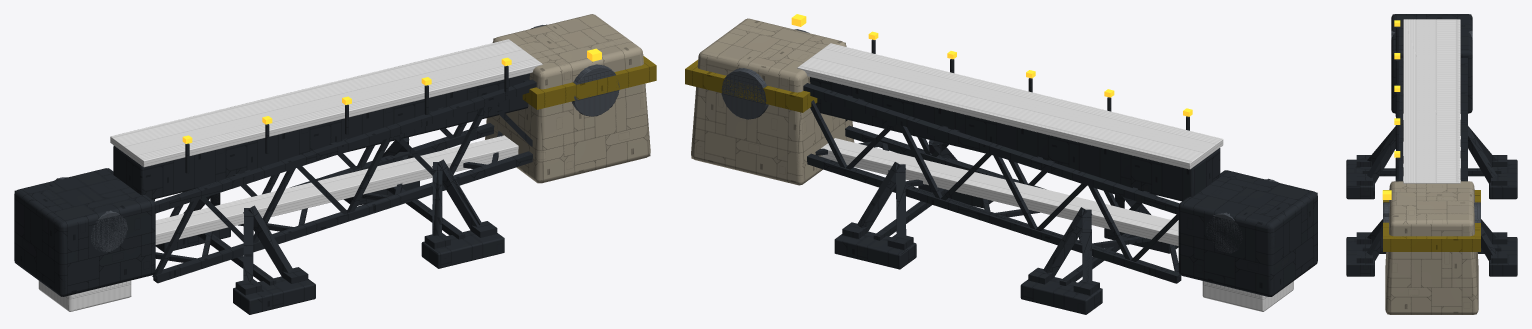
File: place_conveyor_truss.glb
The picture shows the model from 3 angles, left to right: view 1: azimuth 30°, elevation 25°; view 2: azimuth 150°, elevation 25°; view 3: azimuth 270°, elevation 25°; orthographic projection. The views are drawn at different scales.
Parts seen in each view (by area): view 1: LOD0_Armor, LOD0_MechanicalDark, LOD1_Armor, LOD0_Hull, LOD1_Hull, LOD0_Warning, LOD0_Mechanical, LOD2_Armor, LOD1_Warning, LOD0_Beacon_Amber; view 2: LOD0_Armor, LOD0_MechanicalDark, LOD1_Armor, LOD0_Hull, LOD1_Hull, LOD0_Mechanical, LOD0_Warning, LOD1_Warning, LOD2_Armor, LOD0_Beacon_Amber; view 3: LOD0_Armor, LOD0_Hull, LOD0_MechanicalDark, LOD1_Armor, LOD1_Hull, LOD0_Warning, LOD1_Warning, LOD0_Beacon_Amber, LOD0_Mechanical, LOD1_Beacon_Amber, LOD2_Armor.
Boxes of the visible parts, x1=… form: LOD0_Armor: x1=14, y1=65, x2=536, y2=314; LOD0_MechanicalDark: x1=38, y1=39, x2=542, y2=311; LOD1_Armor: x1=14, y1=66, x2=536, y2=314; LOD0_Hull: x1=485, y1=14, x2=650, y2=183; LOD1_Hull: x1=486, y1=14, x2=650, y2=182; LOD0_Warning: x1=522, y1=56, x2=656, y2=109; LOD0_Mechanical: x1=54, y1=25, x2=619, y2=252; LOD2_Armor: x1=14, y1=124, x2=531, y2=314; LOD1_Warning: x1=523, y1=57, x2=656, y2=109; LOD0_Beacon_Amber: x1=182, y1=48, x2=601, y2=143; LOD0_Armor: x1=803, y1=39, x2=1317, y2=314; LOD0_MechanicalDark: x1=797, y1=43, x2=1293, y2=311; LOD1_Armor: x1=803, y1=40, x2=1317, y2=314; LOD0_Hull: x1=691, y1=18, x2=854, y2=184; LOD1_Hull: x1=691, y1=20, x2=853, y2=184; LOD0_Mechanical: x1=721, y1=29, x2=1278, y2=253; LOD0_Warning: x1=685, y1=59, x2=817, y2=112; LOD1_Warning: x1=685, y1=60, x2=817, y2=112; LOD2_Armor: x1=810, y1=126, x2=1317, y2=300; LOD0_Beacon_Amber: x1=791, y1=14, x2=1192, y2=116; LOD0_Armor: x1=1346, y1=14, x2=1517, y2=276; LOD0_Hull: x1=1385, y1=181, x2=1478, y2=314; LOD0_MechanicalDark: x1=1403, y1=19, x2=1460, y2=183; LOD1_Armor: x1=1347, y1=14, x2=1516, y2=276; LOD1_Hull: x1=1385, y1=181, x2=1478, y2=314; LOD0_Warning: x1=1383, y1=190, x2=1480, y2=251; LOD1_Warning: x1=1383, y1=190, x2=1480, y2=251; LOD0_Beacon_Amber: x1=1382, y1=20, x2=1400, y2=199; LOD0_Mechanical: x1=1383, y1=30, x2=1480, y2=222; LOD1_Beacon_Amber: x1=1382, y1=20, x2=1400, y2=199; LOD2_Armor: x1=1368, y1=14, x2=1493, y2=253.
Size of what is drawn, in the model's own units: 28.15 by 7.46 by 8.4.
6 materials, 5 textured.
